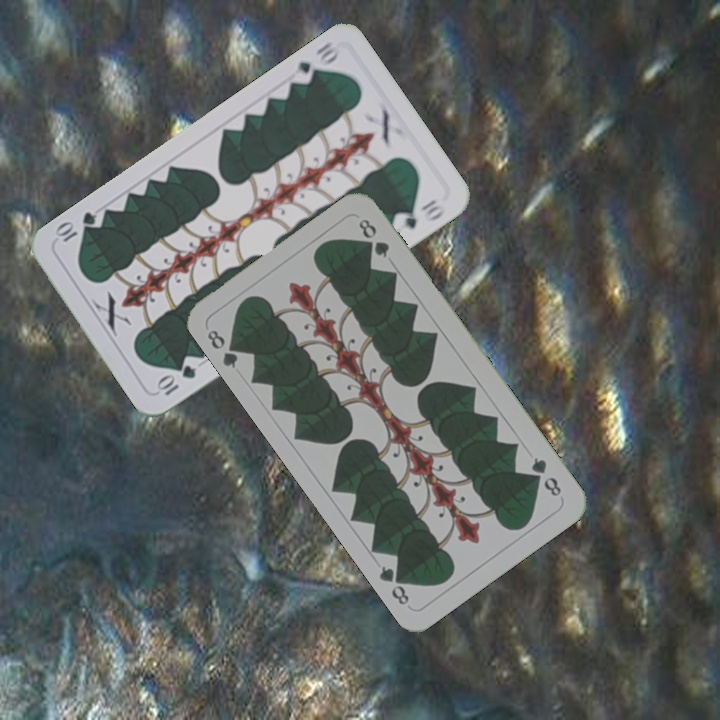G10: (288, 37, 341, 88), (153, 361, 199, 399)
G8: (203, 325, 245, 371), (527, 453, 565, 500)
